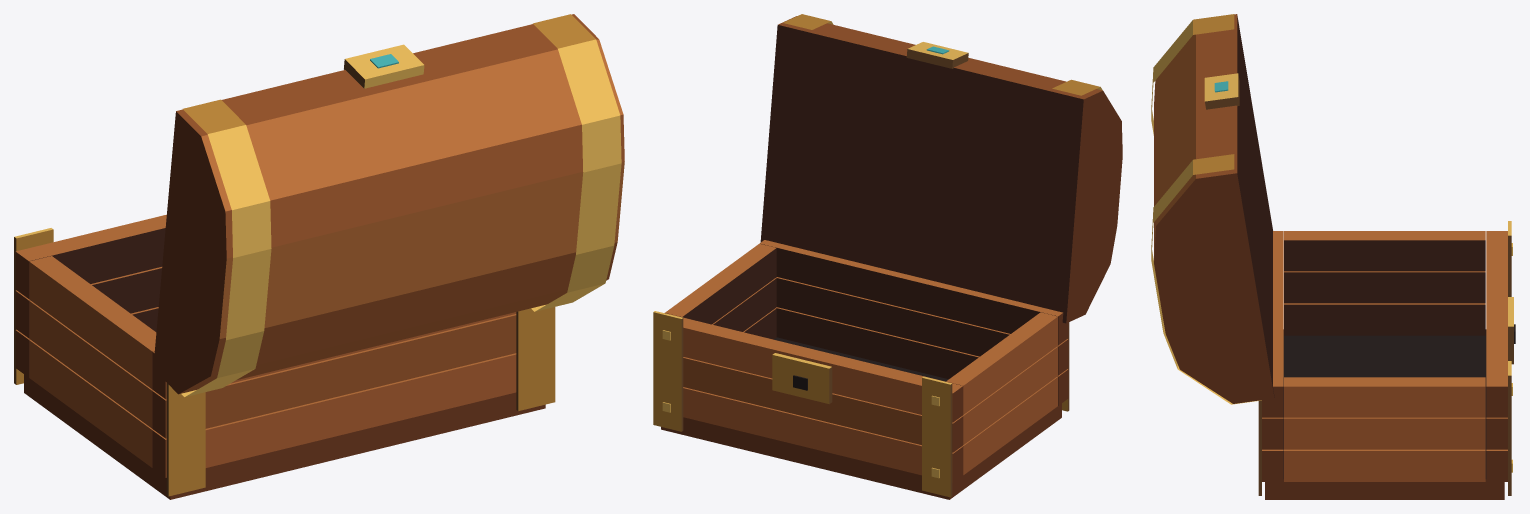
The model's file is TreasureChestOpen.obj.
3 views of the same model, side by side, from view 1: azimuth 30°, elevation 25°; view 2: azimuth 150°, elevation 25°; view 3: azimuth 270°, elevation 25° (orthographic). The views are drawn at different scales.
Parts seen in each view (by area): view 1: TreasureChest; view 2: TreasureChest; view 3: TreasureChest.
Boxes of the visible parts, box(x1,y1,x2,y2) form: TreasureChest: box(14, 14, 624, 499); TreasureChest: box(653, 14, 1122, 499); TreasureChest: box(1151, 14, 1515, 499).
Size of the model in its own units: 0.912 by 0.9072 by 0.8812.
Materials: 1 (1 with a texture image).
